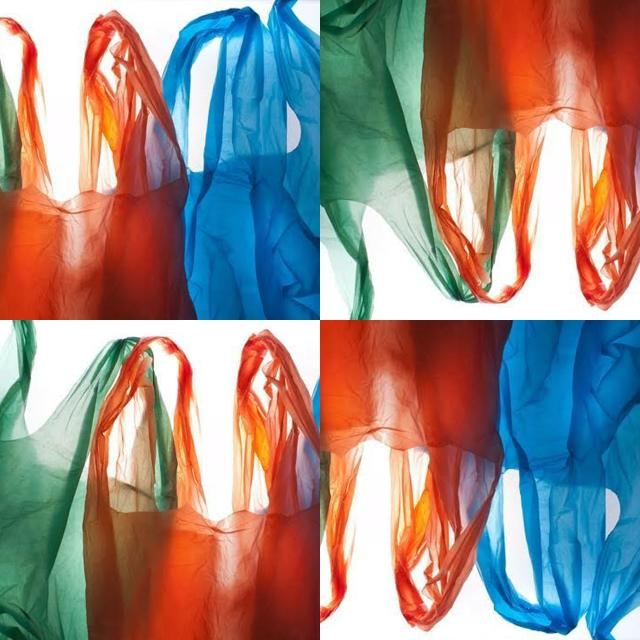Single-layer Plastic: (84, 331, 320, 639), (421, 0, 640, 309), (0, 11, 194, 320), (320, 320, 509, 630), (478, 321, 640, 640), (164, 0, 320, 319), (321, 0, 475, 319), (0, 321, 139, 639), (149, 368, 178, 510)
